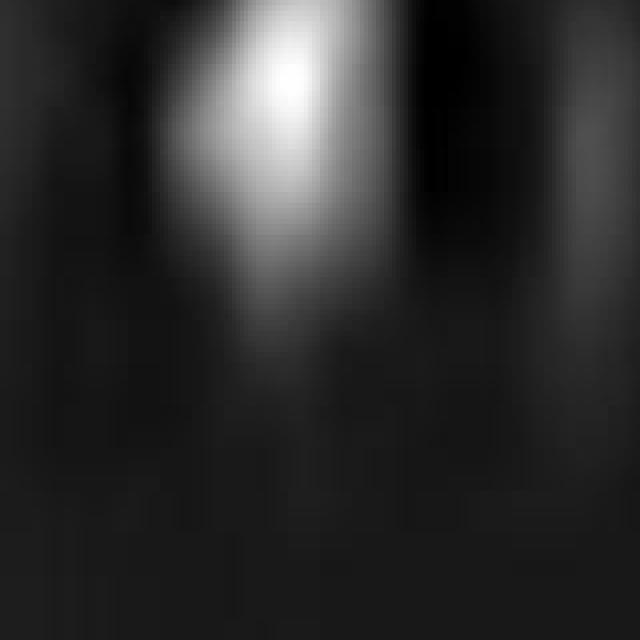person: (113, 1, 417, 374)
